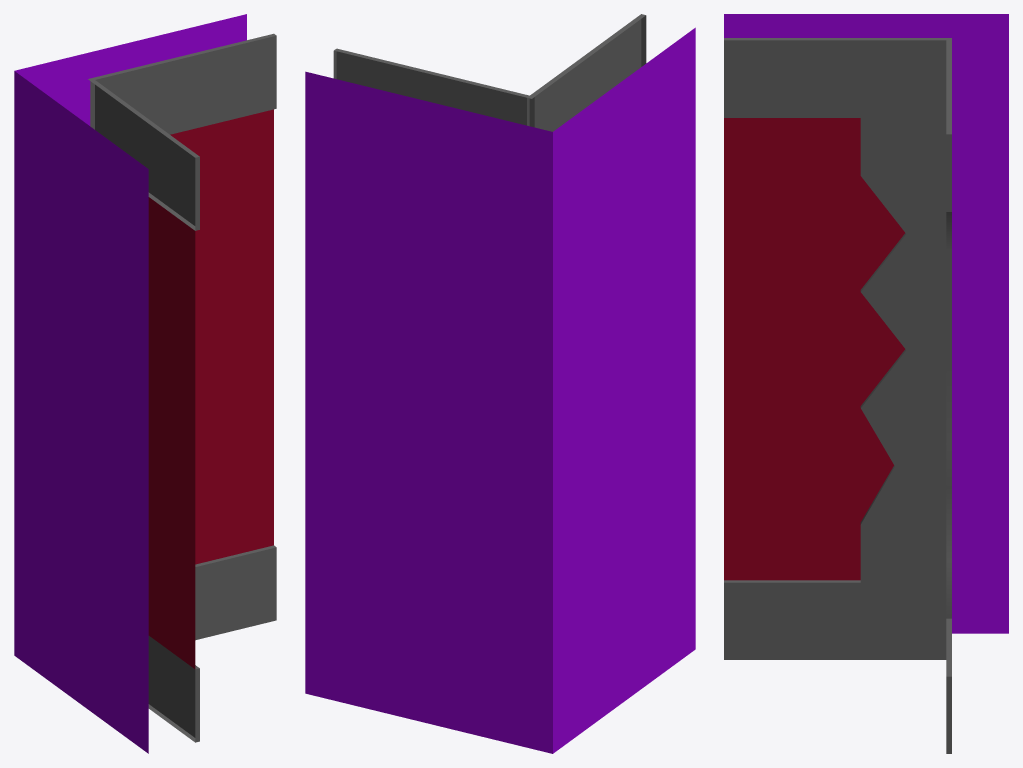
The model's file is Corner_01_In_1x3.fbx.
3 views of the same model, side by side, from view 1: azimuth 30°, elevation 25°; view 2: azimuth 150°, elevation 25°; view 3: azimuth 270°, elevation 25° (orthographic). The views are drawn at different scales.
Visible parts, largest first — view 1: Corner_In_1x3; view 2: Corner_In_1x3; view 3: Corner_In_1x3.
Boxes of the visible parts, x1,y1,x2,y2 form: Corner_In_1x3: (14, 14, 276, 753); Corner_In_1x3: (305, 14, 695, 753); Corner_In_1x3: (724, 14, 1008, 753).
Bounding box in the file's own units: 1.25 × 3 × 1.25.
